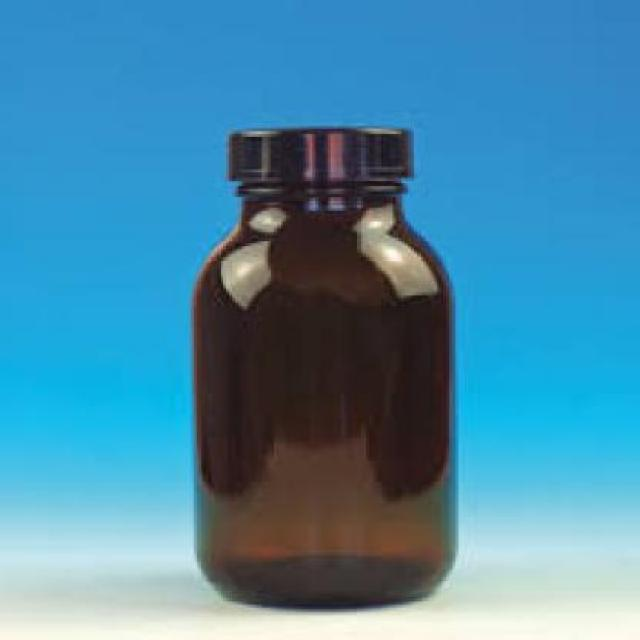kaca: (191, 180, 455, 608)
